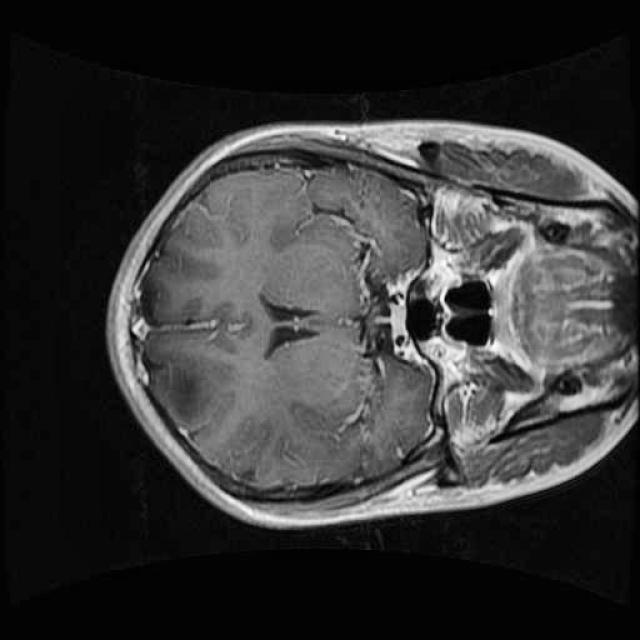Non-Tumor: (136, 339, 253, 444)
